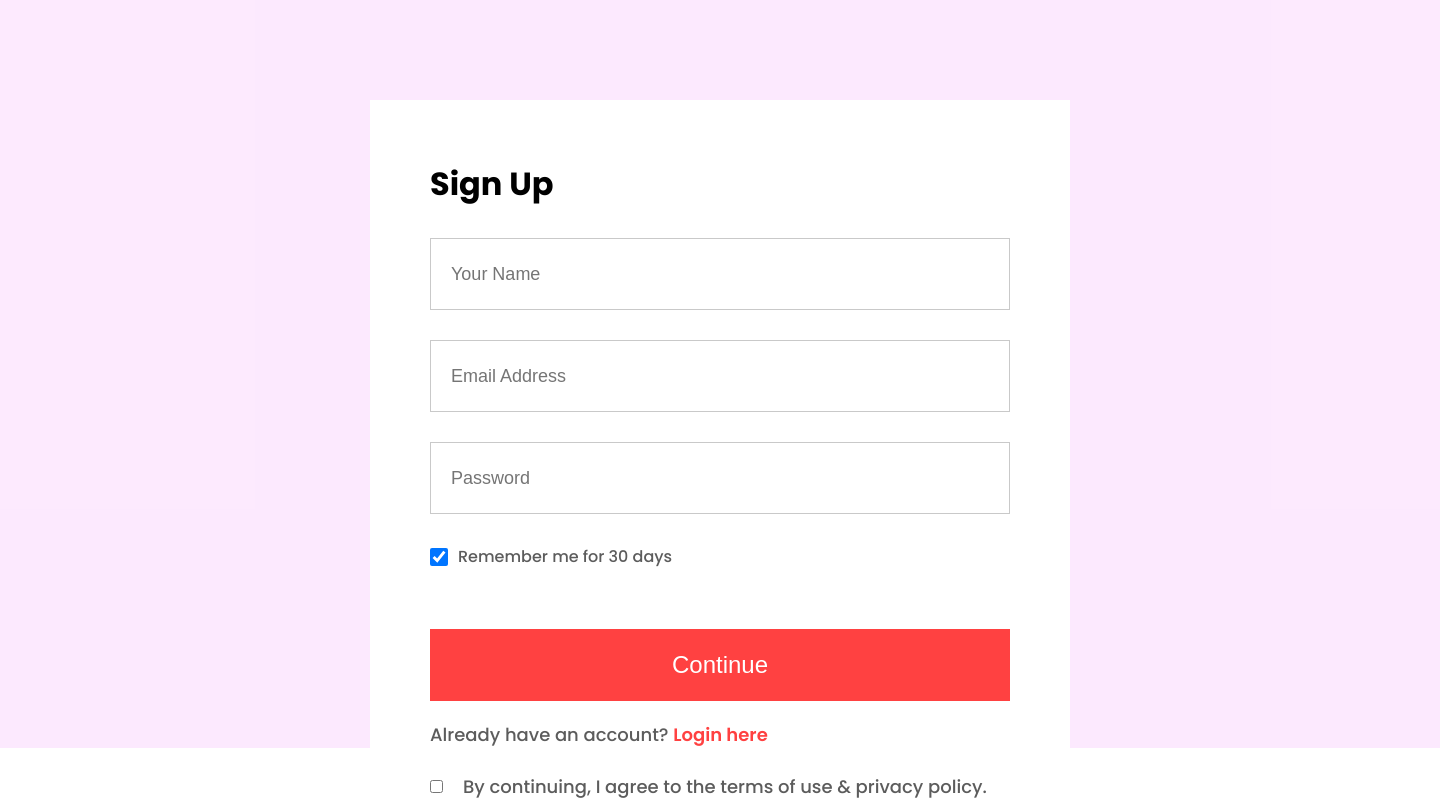
it: rejects a short password
Type "Sam" into the field with placeholder "Your Name" at (720, 274), box [430,238,1010,310]
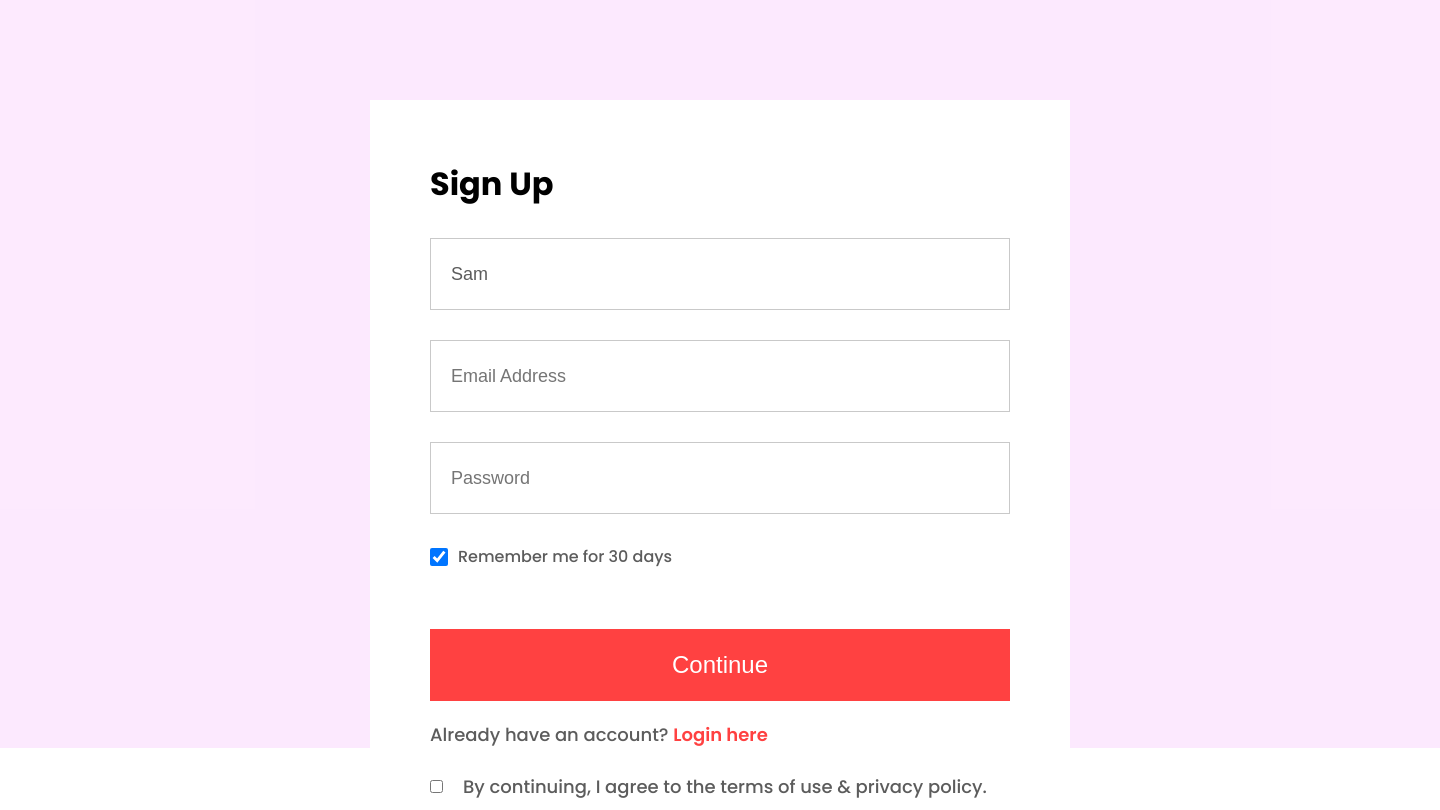
Type "sam@example.com" into the field with placeholder "Email Address" at (720, 376), box [430,340,1010,412]
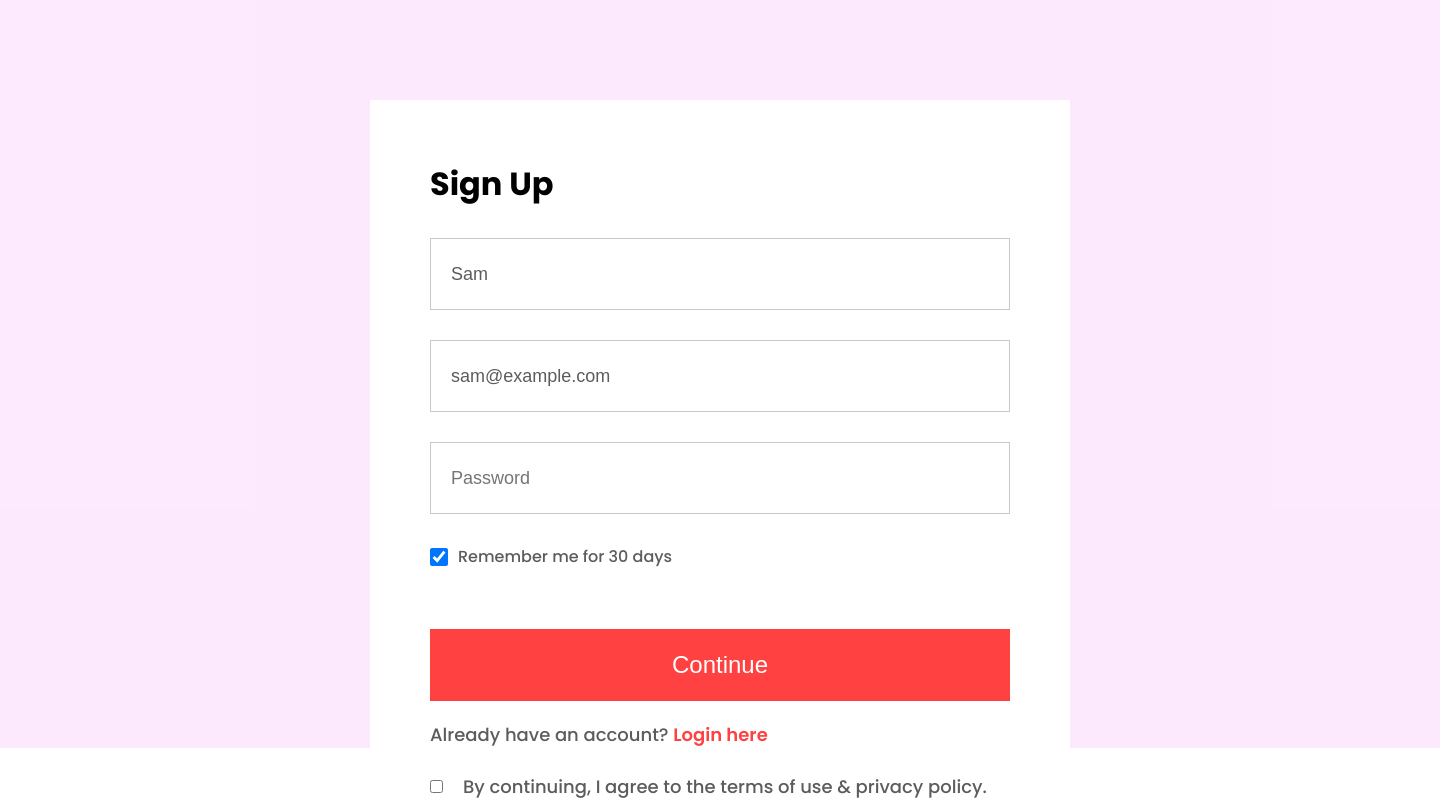
Type "short" into the password field with placeholder "Password" at (720, 478), box [430,442,1010,514]
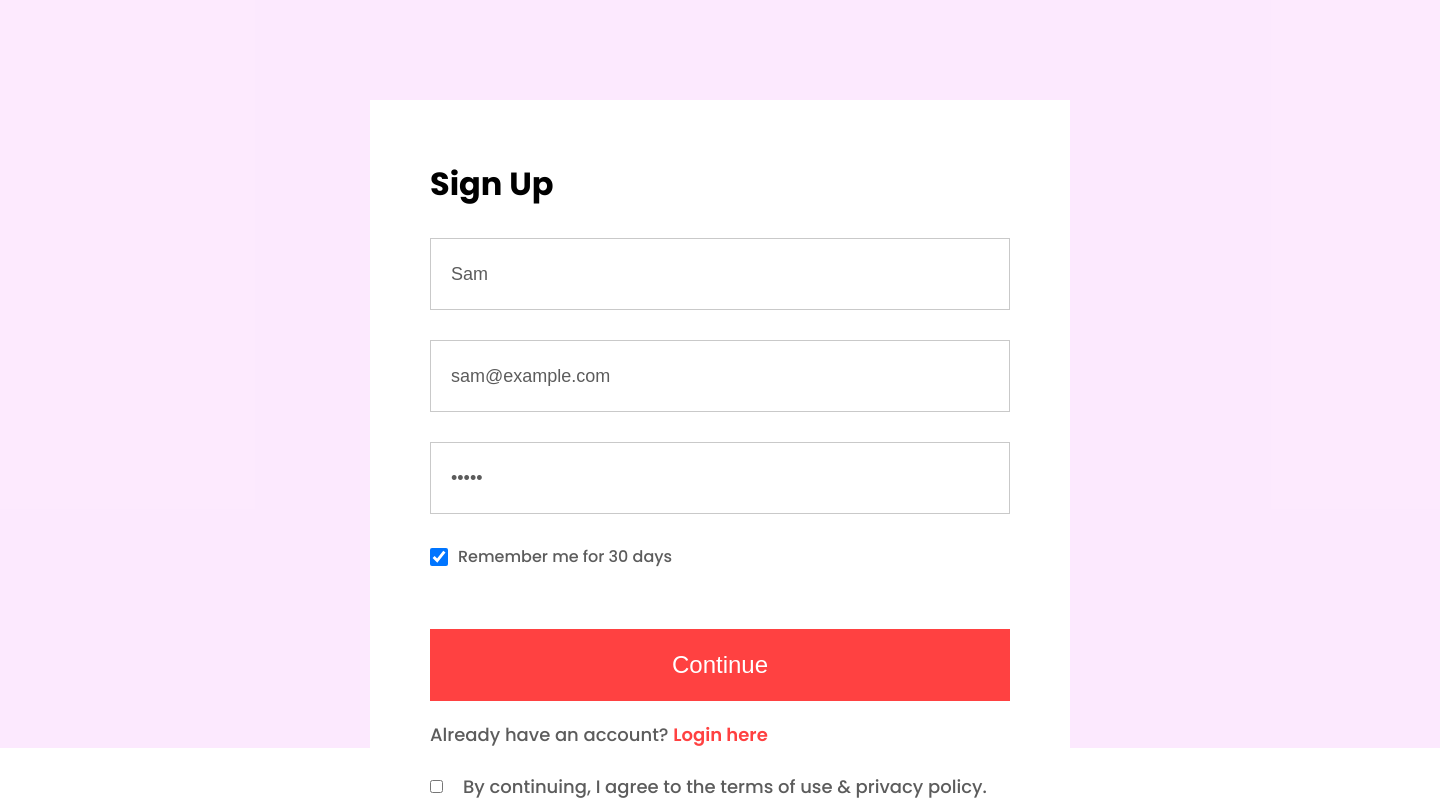
Click the button "Continue" at (720, 665), box [430,629,1010,701]
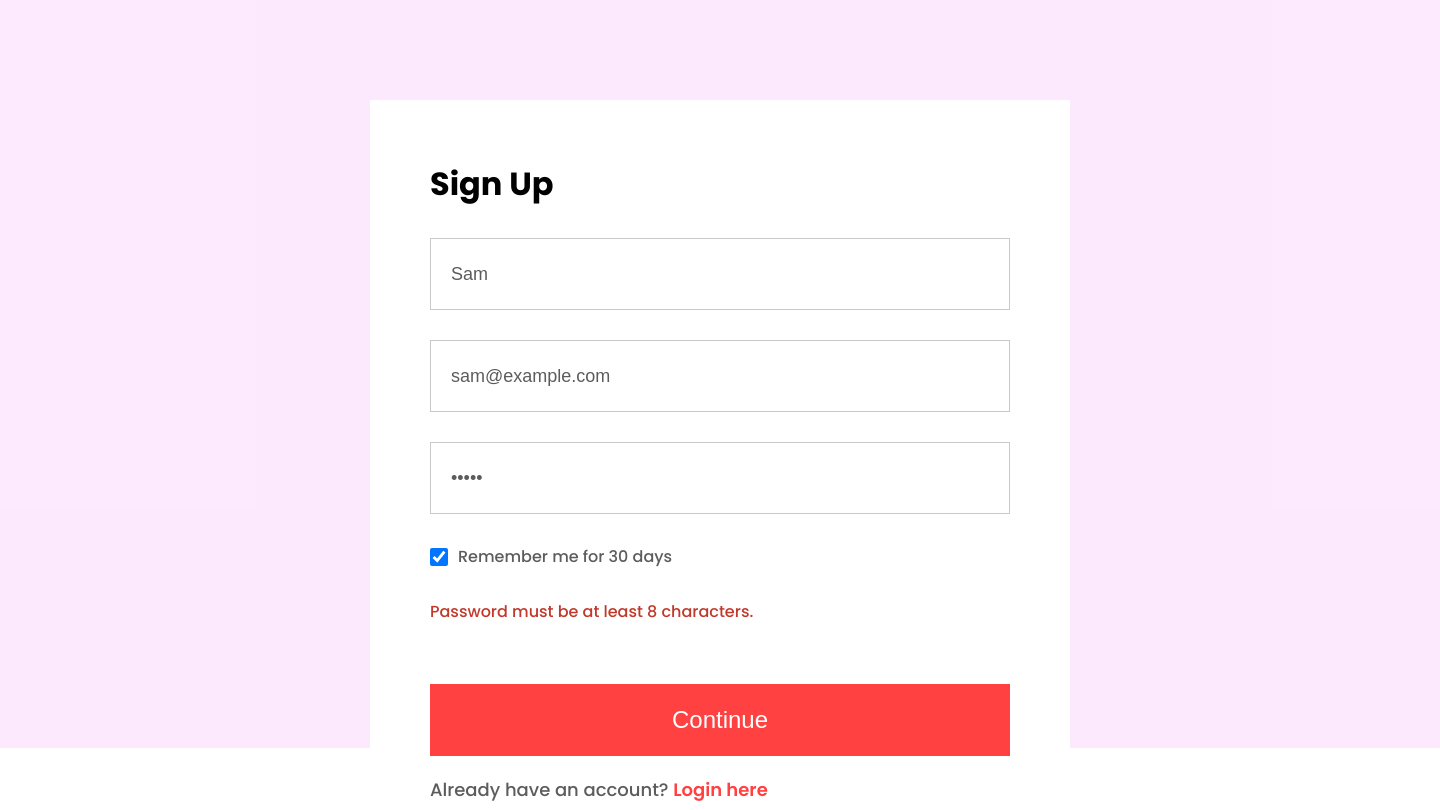
Expected: the text "Password must be at least 8 characters." is shown, [430,600,753,623]
